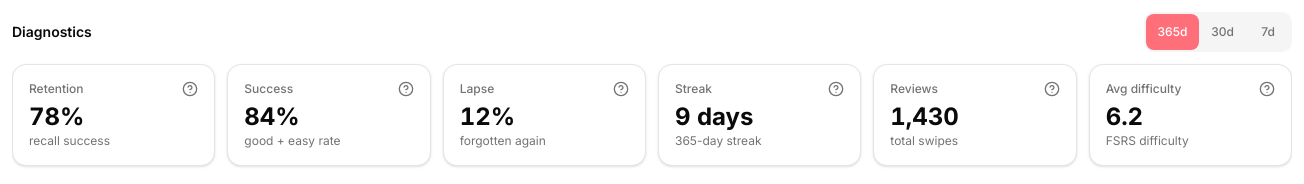
Test: <DiagnosticsPanel> › switches snapshots locally and reflects the selected segment
Check: the text "78%" is shown, box [29,102,84,131]
Click the button named "Last 30 days" at (1223, 32), box [1199,14,1246,50]
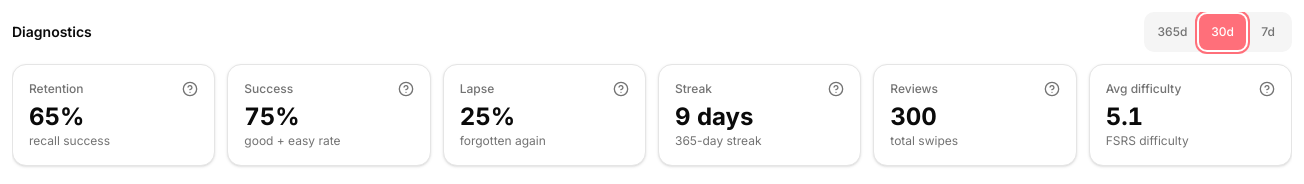
Check: the text "65%" is shown, box [29,102,84,131]
Check: the text "300" is shown, box [890,102,937,131]
